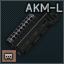AK TDI AKM-L handguard Anodized Bronze: (0, 0, 64, 64)
